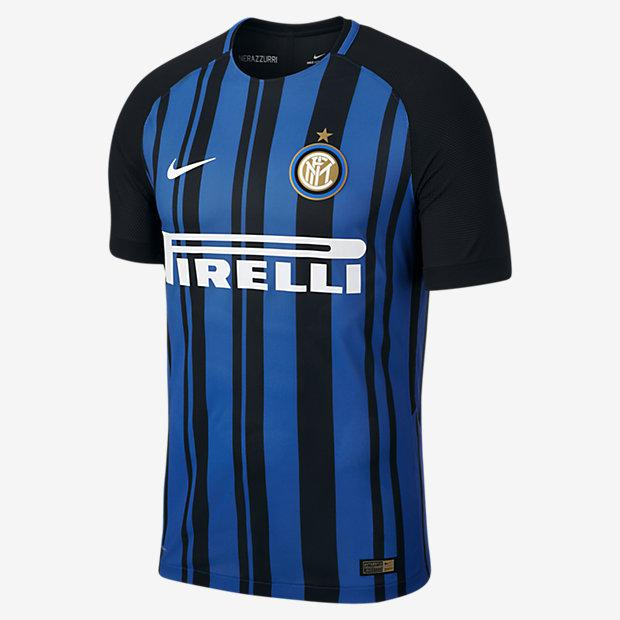teeshirt: (71, 9, 528, 606)
